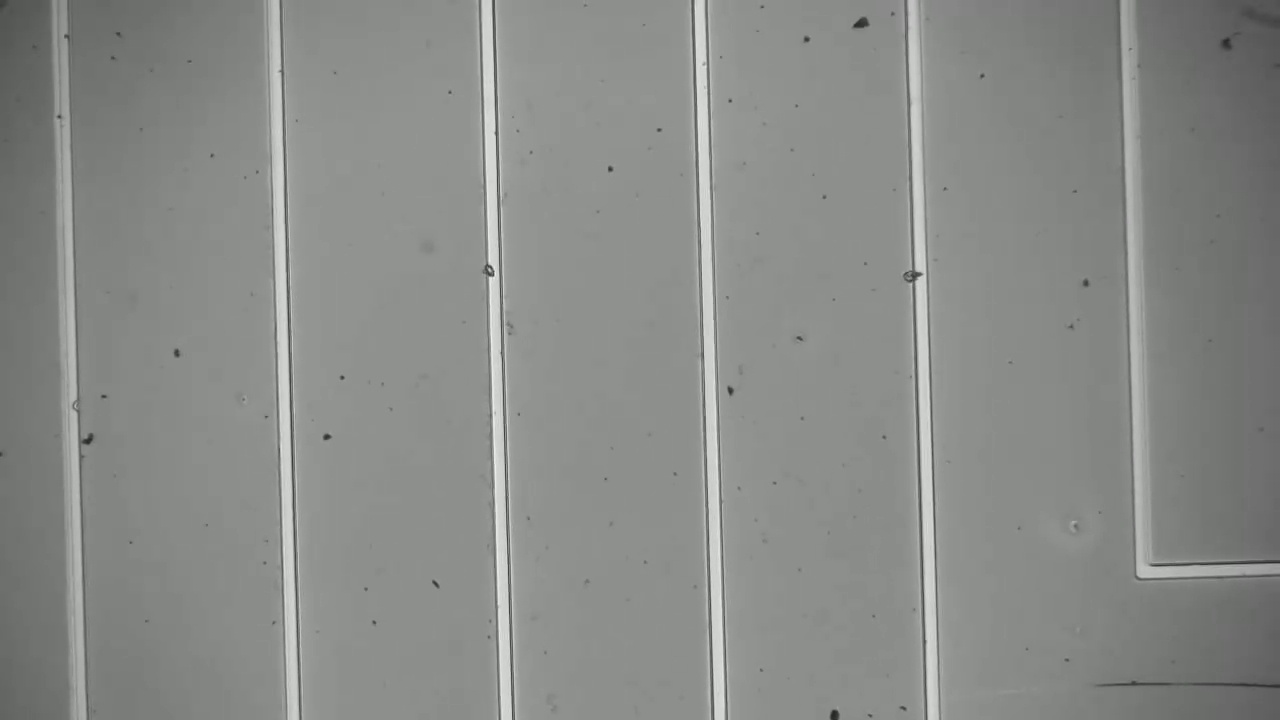edge_bite: (52, 391, 84, 423)
scratch: (1078, 662, 1278, 701)
stains_enbedded: (896, 259, 936, 295), (471, 253, 510, 288)
